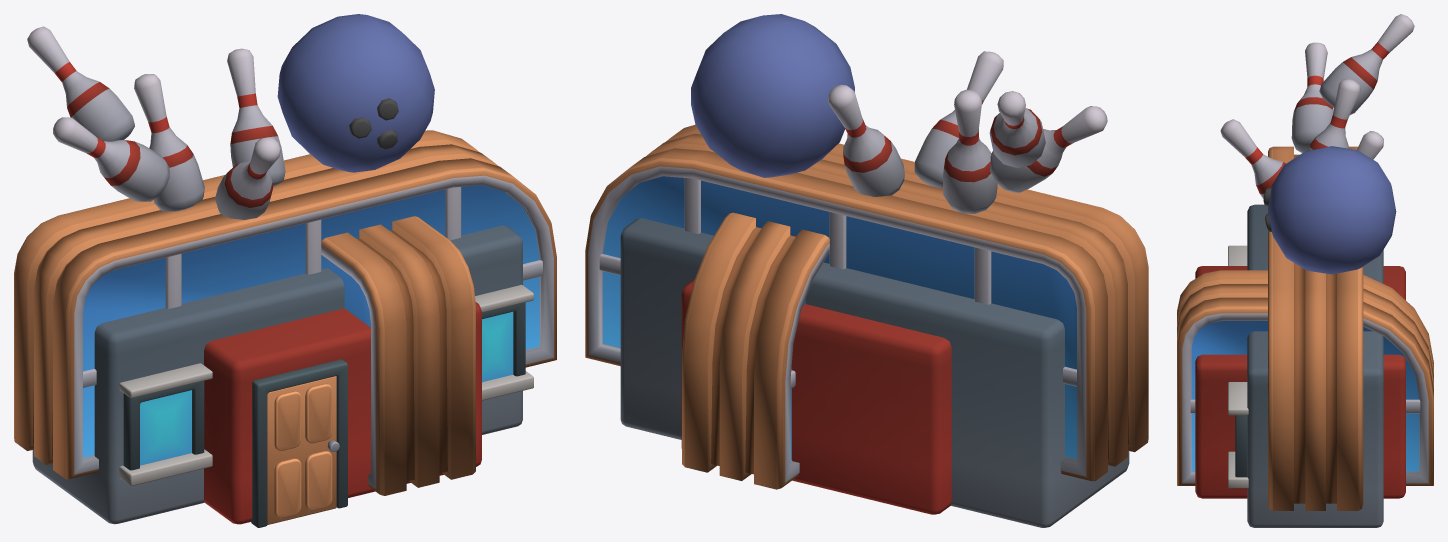
The model's file is mct_build_full_bowl.fbx.
3 renders of one model, left to right at view 1: azimuth 30°, elevation 25°; view 2: azimuth 150°, elevation 25°; view 3: azimuth 270°, elevation 25°, orthographic. The views are drawn at different scales.
Visible parts, largest first — view 1: mct_build_full_bowl, mct_build_full_bowl_door; view 2: mct_build_full_bowl; view 3: mct_build_full_bowl.
Boxes of the visible parts, bbox=[...] form: mct_build_full_bowl: bbox=[14, 14, 556, 527]; mct_build_full_bowl_door: bbox=[267, 376, 339, 524]; mct_build_full_bowl: bbox=[585, 14, 1148, 527]; mct_build_full_bowl: bbox=[1177, 14, 1433, 527].
Size of the model in its own units: 784 by 653 by 427.
